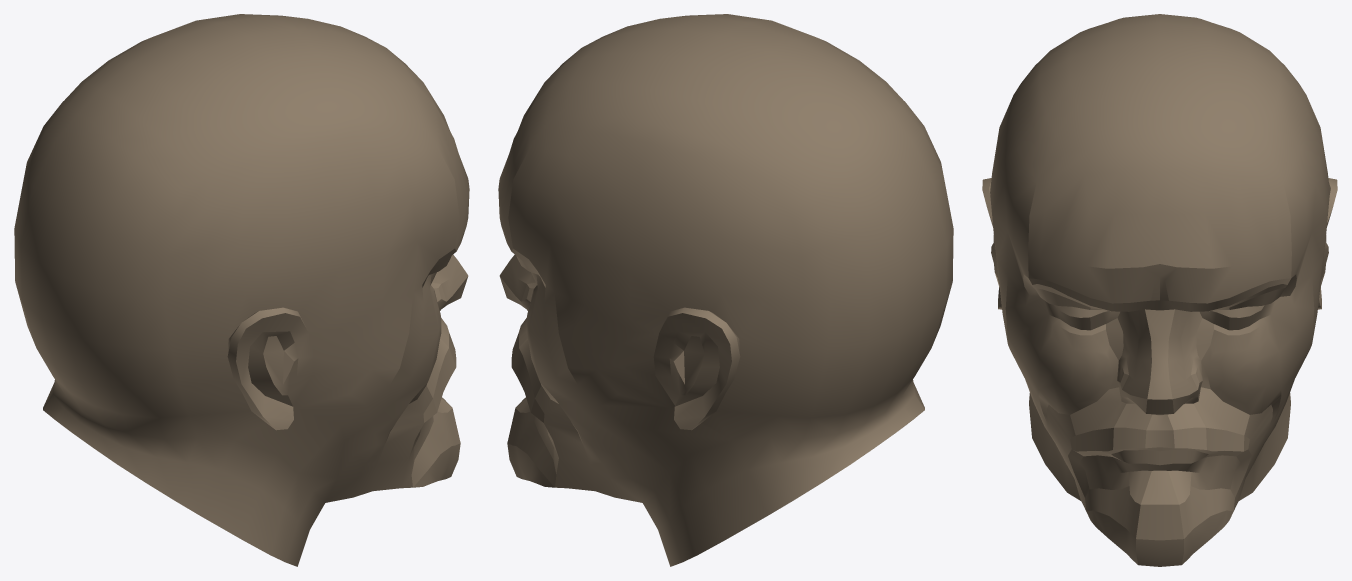
Rendered from lenin.fbx.
3 renders of one model, left to right at view 1: azimuth 30°, elevation 25°; view 2: azimuth 150°, elevation 25°; view 3: azimuth 270°, elevation 25°, orthographic. The views are drawn at different scales.
Visible parts, largest first — view 1: lenin; view 2: lenin; view 3: lenin.
Part boxes in pixels (x1,y1,x2,y2): lenin: (14, 14, 469, 566); lenin: (498, 14, 953, 566); lenin: (982, 14, 1337, 566).
Size of the model in its own units: 419 by 491 by 332.
